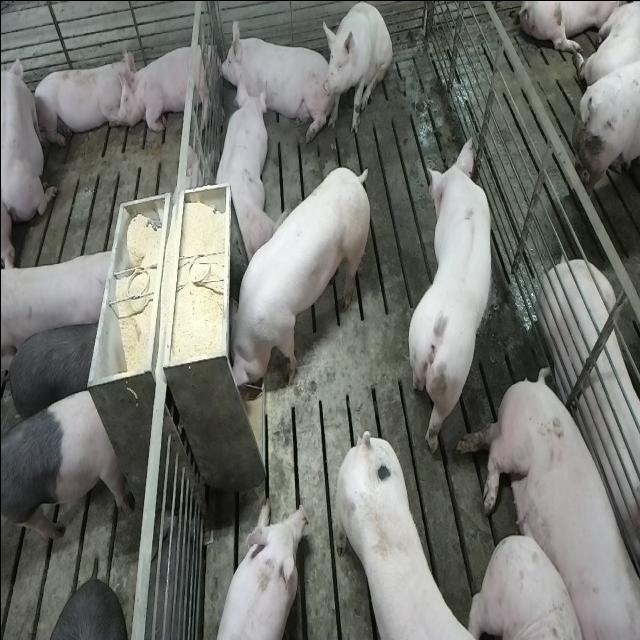Feeding: (219, 165, 367, 396)
Lateral_lying: (456, 368, 638, 640), (538, 257, 640, 599)
Sitting: (321, 2, 392, 136)
Standing: (330, 426, 497, 638), (406, 128, 496, 462), (1, 383, 129, 552), (2, 242, 122, 366), (2, 318, 101, 420)
Sternal_lying: (208, 500, 306, 640), (216, 20, 326, 134), (210, 80, 272, 264), (2, 45, 56, 229), (30, 52, 132, 148), (120, 37, 216, 135)
